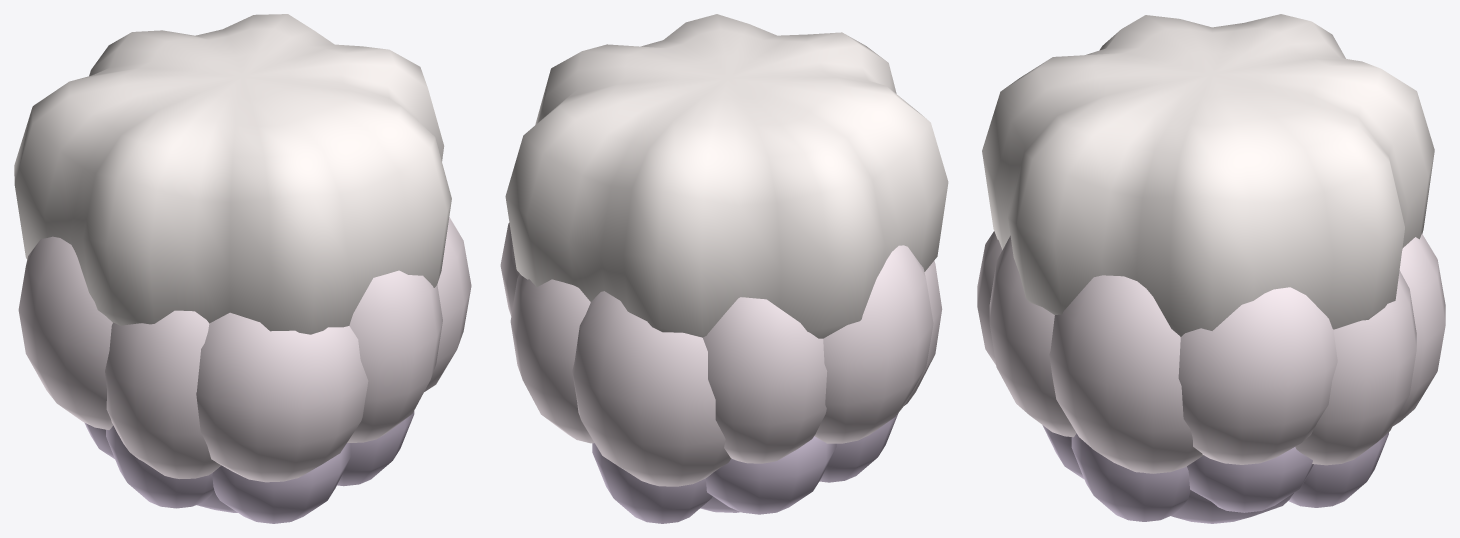
The model's file is cloud.glb.
3 views of the same model, side by side, from view 1: azimuth 30°, elevation 25°; view 2: azimuth 150°, elevation 25°; view 3: azimuth 270°, elevation 25° (orthographic). The views are drawn at different scales.
Visible parts, largest first — view 1: Body_Cloud_Pearl, Body_Cloud_Meringue, Body_Cloud_Lavender; view 2: Body_Cloud_Pearl, Body_Cloud_Meringue, Body_Cloud_Lavender; view 3: Body_Cloud_Pearl, Body_Cloud_Meringue, Body_Cloud_Lavender.
Part boxes in pixels (x1,y1,x2,y2): Body_Cloud_Pearl: (14, 14, 451, 334); Body_Cloud_Meringue: (18, 217, 471, 482); Body_Cloud_Lavender: (84, 411, 414, 523); Body_Cloud_Pearl: (505, 14, 948, 338); Body_Cloud_Meringue: (500, 223, 942, 486); Body_Cloud_Lavender: (592, 413, 898, 523); Body_Cloud_Pearl: (982, 14, 1434, 336); Body_Cloud_Meringue: (977, 231, 1445, 473); Body_Cloud_Lavender: (1042, 425, 1388, 523).
Bounding box in the file's own units: 0.99 × 1 × 0.974.
